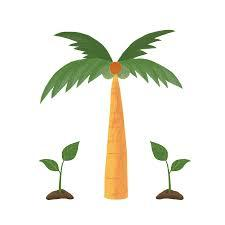tree: (41, 30, 183, 202)
